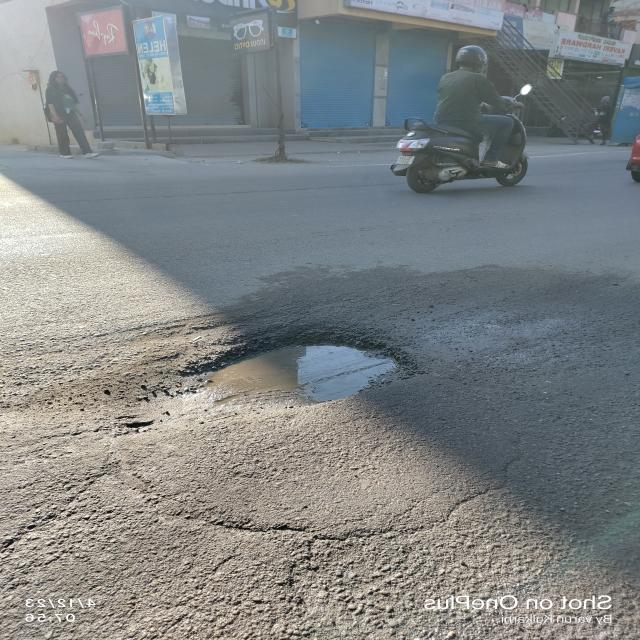Puddle pothole: (196, 329, 424, 392)
